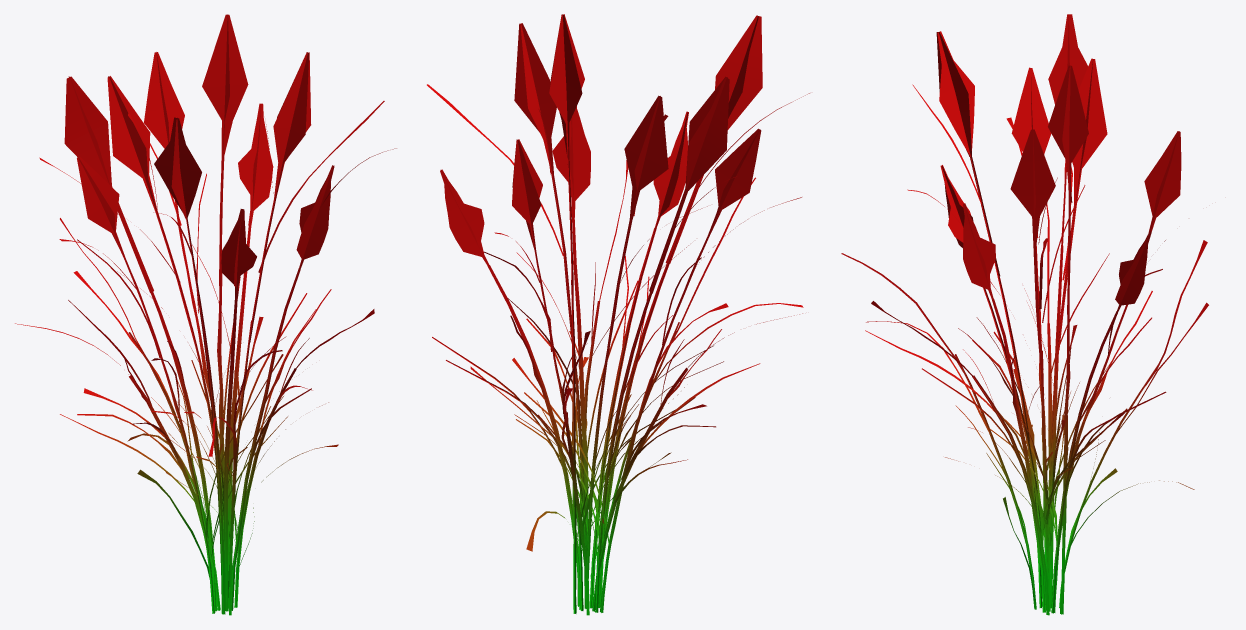
Rendered from Rough Meadow Grass_LOD1_Var3_skFjJ.fbx.
3 views of the same model, side by side, from view 1: azimuth 30°, elevation 25°; view 2: azimuth 150°, elevation 25°; view 3: azimuth 270°, elevation 25° (orthographic). The views are drawn at different scales.
Parts seen in each view (by area): view 1: _182f_Var3_LOD1; view 2: _182f_Var3_LOD1; view 3: _182f_Var3_LOD1.
Part boxes in pixels (x1,y1,x2,y2): _182f_Var3_LOD1: (15,14,396,615); _182f_Var3_LOD1: (427,14,809,615); _182f_Var3_LOD1: (841,14,1208,615).
Size of the model in its own units: 85.33 by 128 by 82.2.
